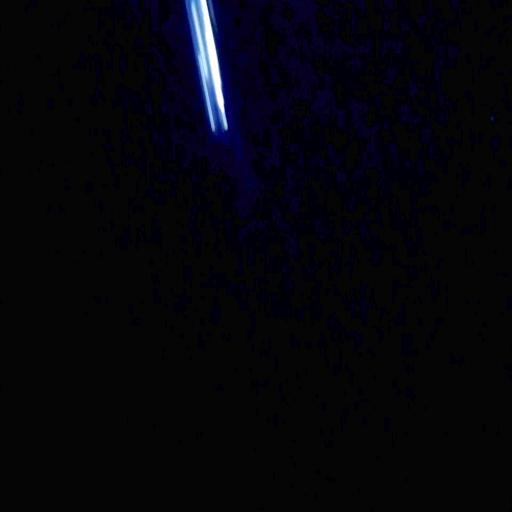object-detection-project: (186, 0, 227, 132)
